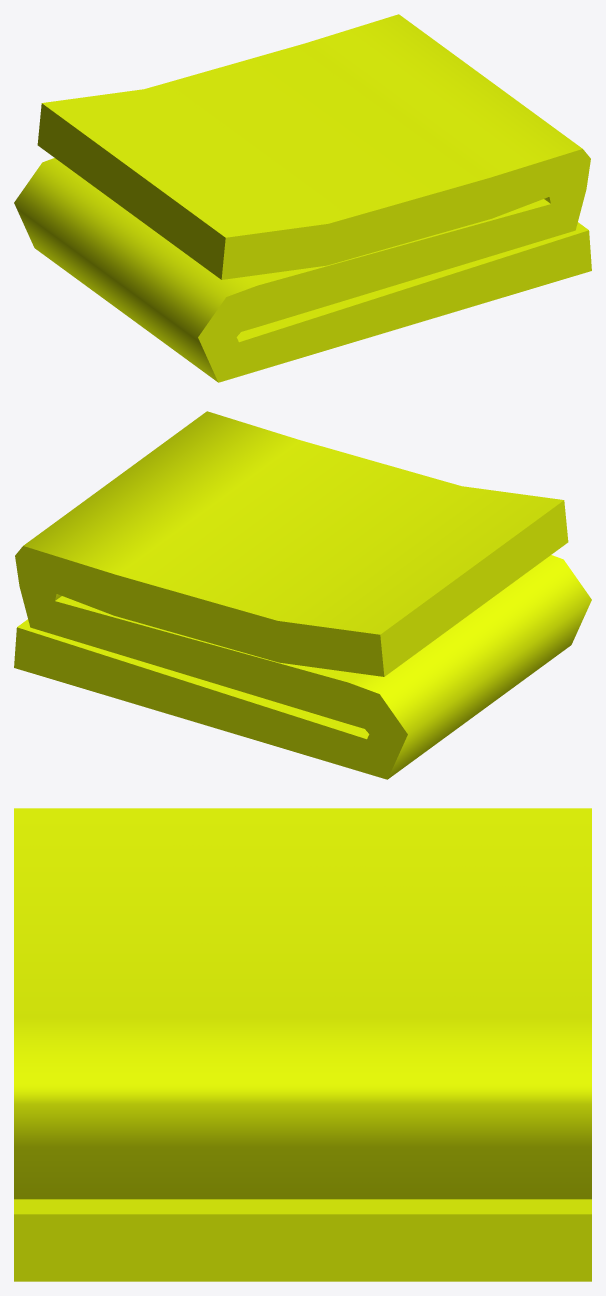
The model's file is Towel1.FBX.
3 renders of one model, top to bottom at view 1: azimuth 30°, elevation 25°; view 2: azimuth 150°, elevation 25°; view 3: azimuth 270°, elevation 25°, orthographic. The views are drawn at different scales.
Visible parts, largest first — view 1: Line002; view 2: Line002; view 3: Line002.
Part boxes in pixels (box(x1,y1,x2,y2)): Line002: box(14, 14, 591, 382); Line002: box(14, 411, 591, 779); Line002: box(14, 808, 591, 1281).
Bounding box in the file's own units: 0.887 × 0.3119 × 0.7175.
